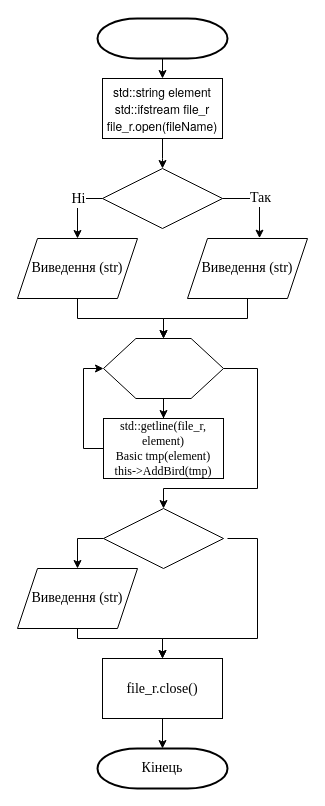
Image size: 325x806. Some labels were removed from this diagram. Each missing label, with the box of its shape:
!file_r.eof(): (102, 338, 224, 398)
!file_r.is_open(): (102, 168, 222, 228)
element == "": (102, 508, 224, 568)
readFromFile(std::string fileName): (96, 17, 228, 59)
